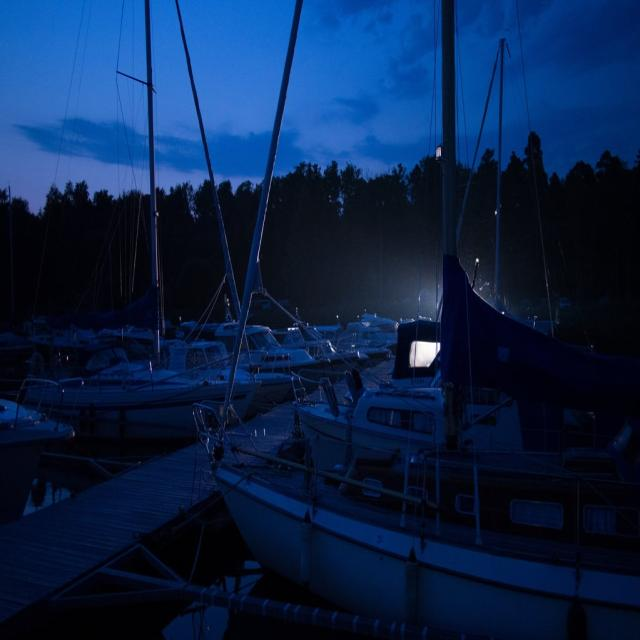Boat: (298, 19, 640, 455), (194, 392, 640, 640), (0, 11, 217, 479), (227, 0, 319, 424), (321, 195, 414, 380)
